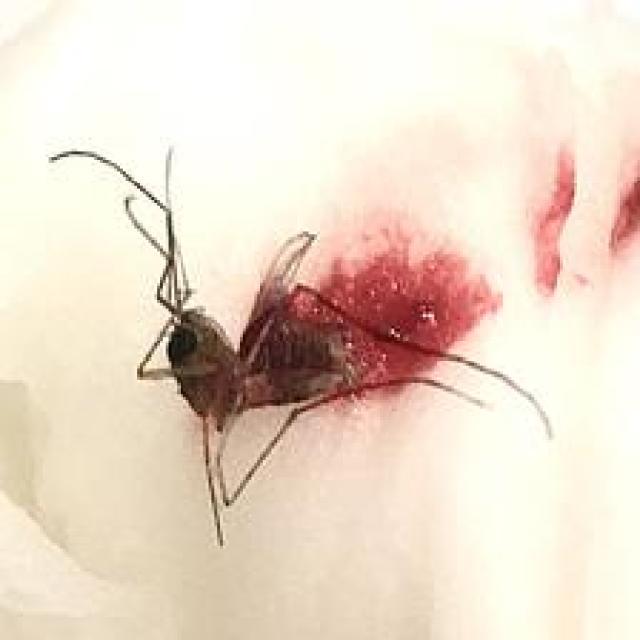Culex: (47, 143, 556, 548)
